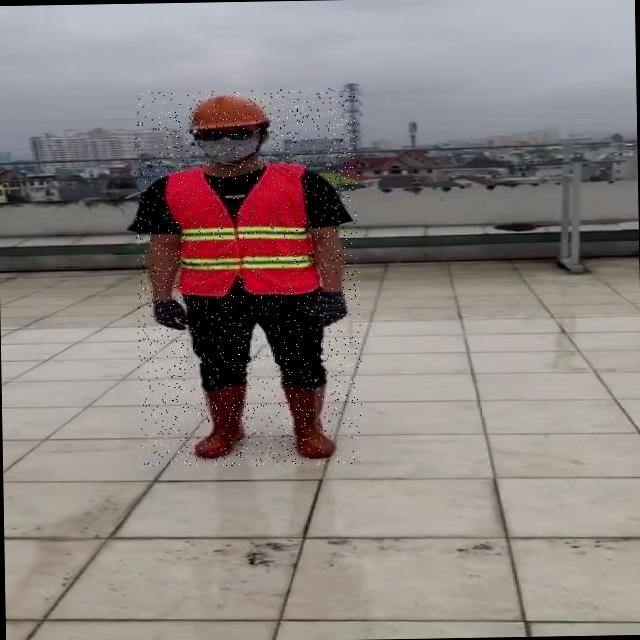boots: (277, 384, 342, 458), (191, 383, 251, 458)
gloves: (303, 272, 352, 344), (146, 286, 193, 344)
helmet: (184, 92, 271, 132)
vest: (165, 165, 316, 297)
